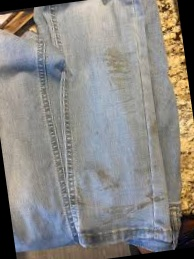earth: (105, 46, 131, 86), (96, 169, 120, 191), (103, 204, 132, 222), (138, 193, 161, 210)
